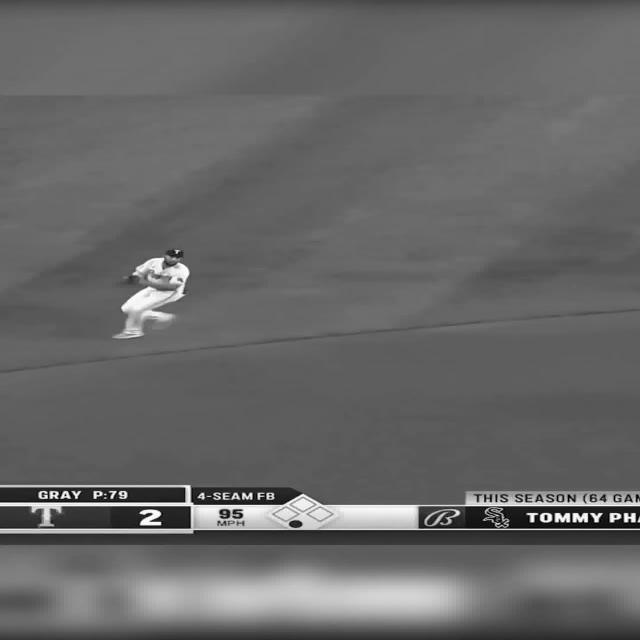baseball_glove: (122, 274, 140, 285)
shoe: (112, 331, 144, 339)
